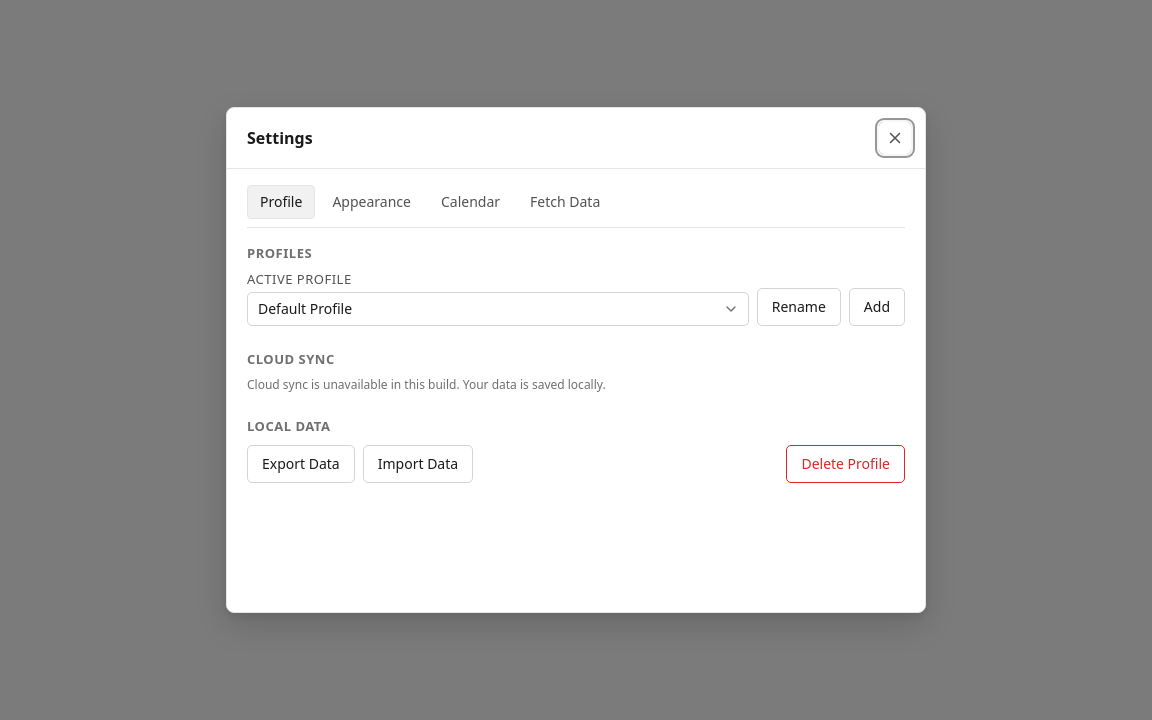
Test: SettingsDialog — Calendar tab › rejects an end hour before the start hour
Click the tab "Calendar" at (470, 202), box [428,185,513,219]
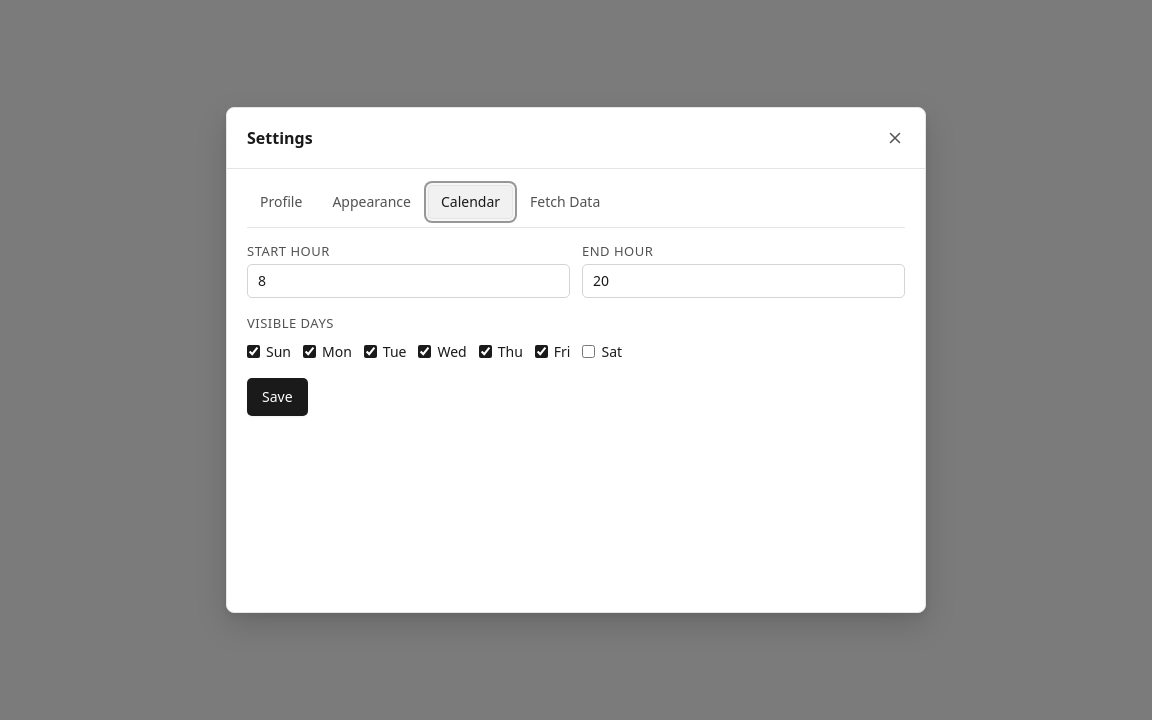
Replace the text in the number field labelled "End hour" with "5" at (744, 281), box [582,264,905,298]
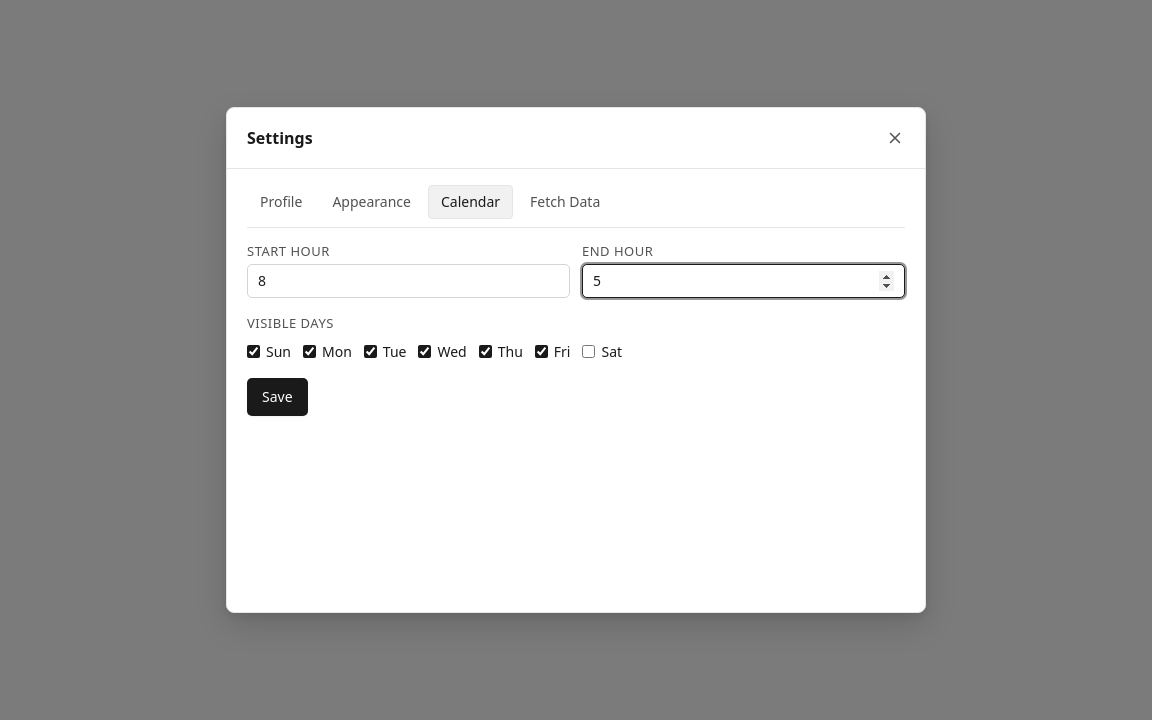
Click the button with aria-label "Save calendar settings" at (277, 397), box [247,378,308,416]
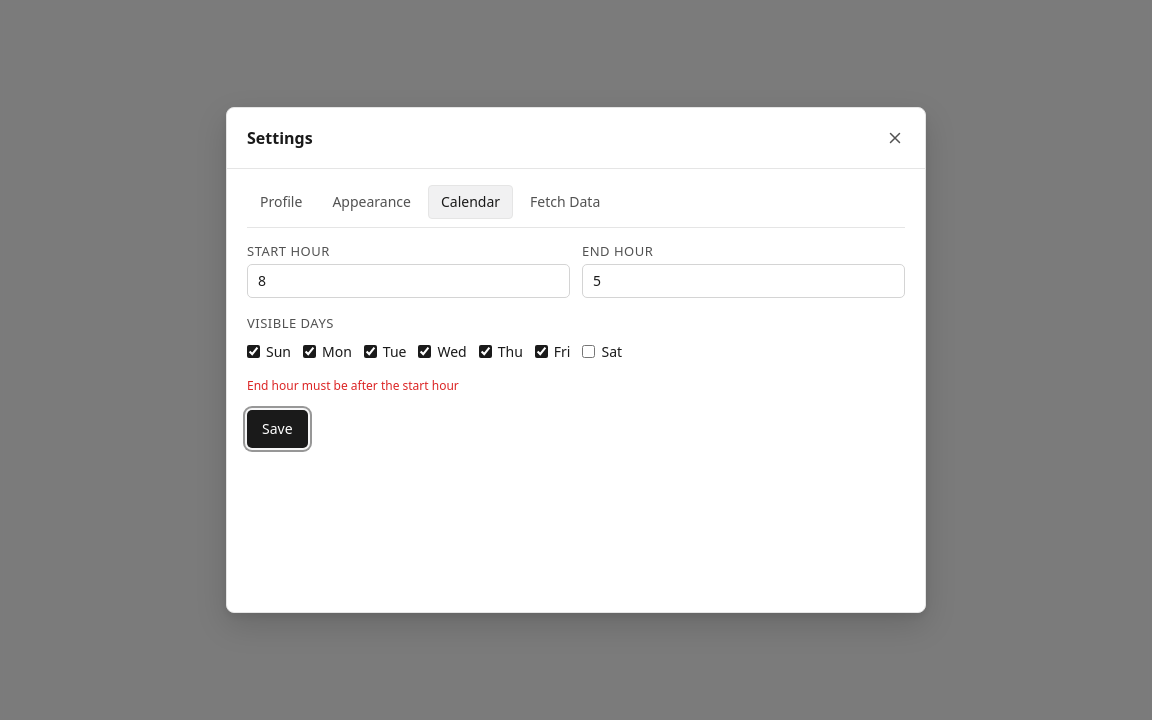
expect the text "End hour must be after the start hour" is shown: met, box [247,377,459,394]
